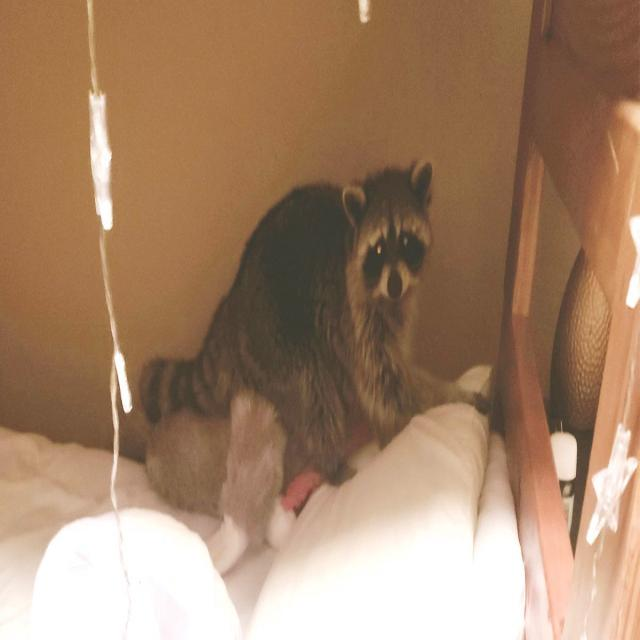raccoon: (140, 163, 483, 495)
